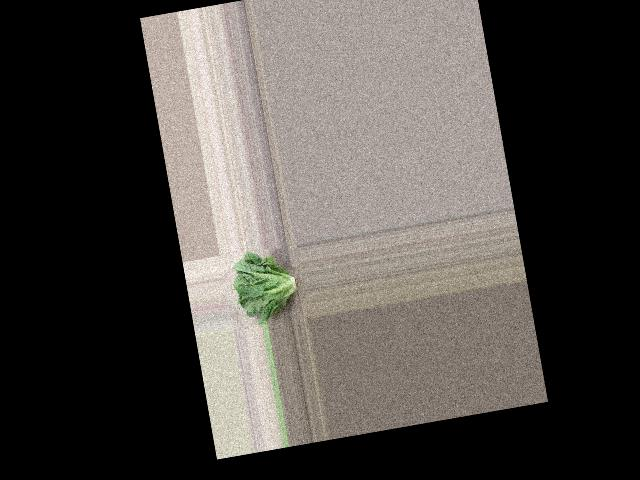lettuce: (226, 245, 307, 328)
